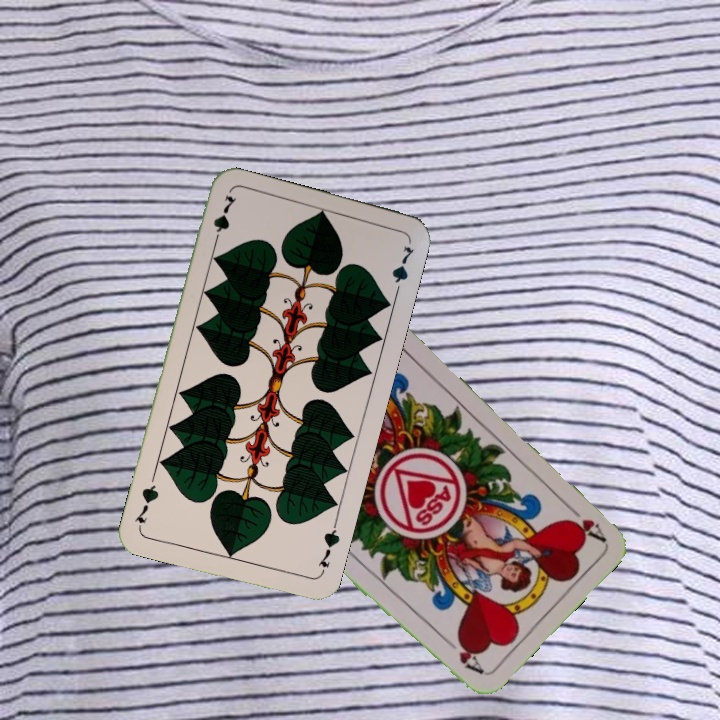G7: (313, 519, 343, 578), (209, 191, 239, 249)
HA: (559, 498, 607, 544)
